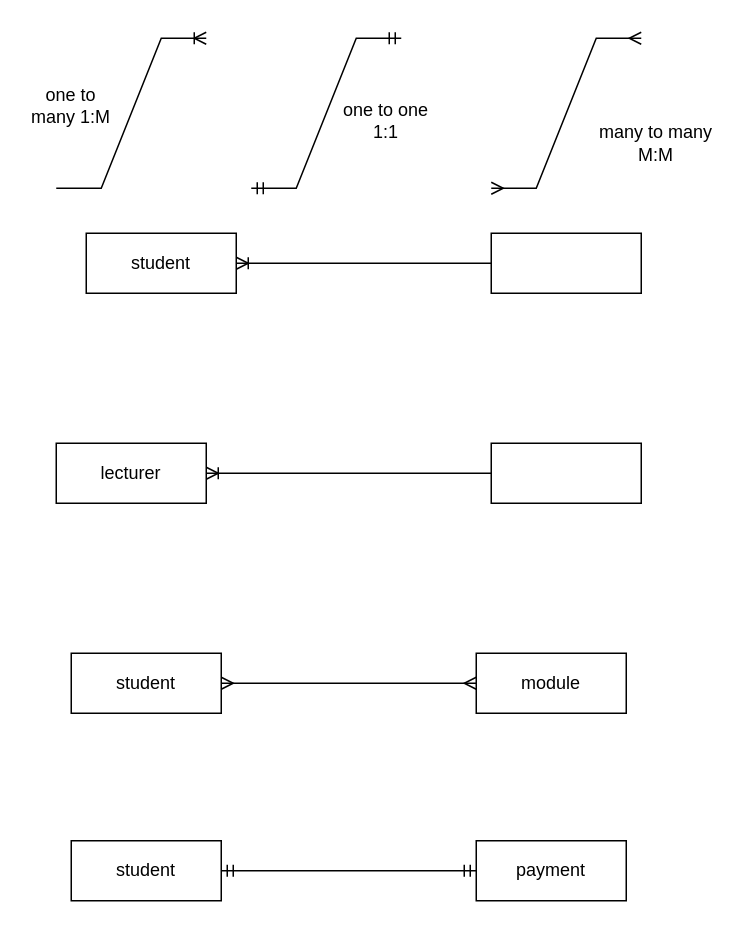
Some shapes in this 741 by 927 pixel diagram are drawn without their labels. Each missing label, with the box of its shape:
course: (490, 232, 641, 293)
department: (490, 442, 641, 503)
